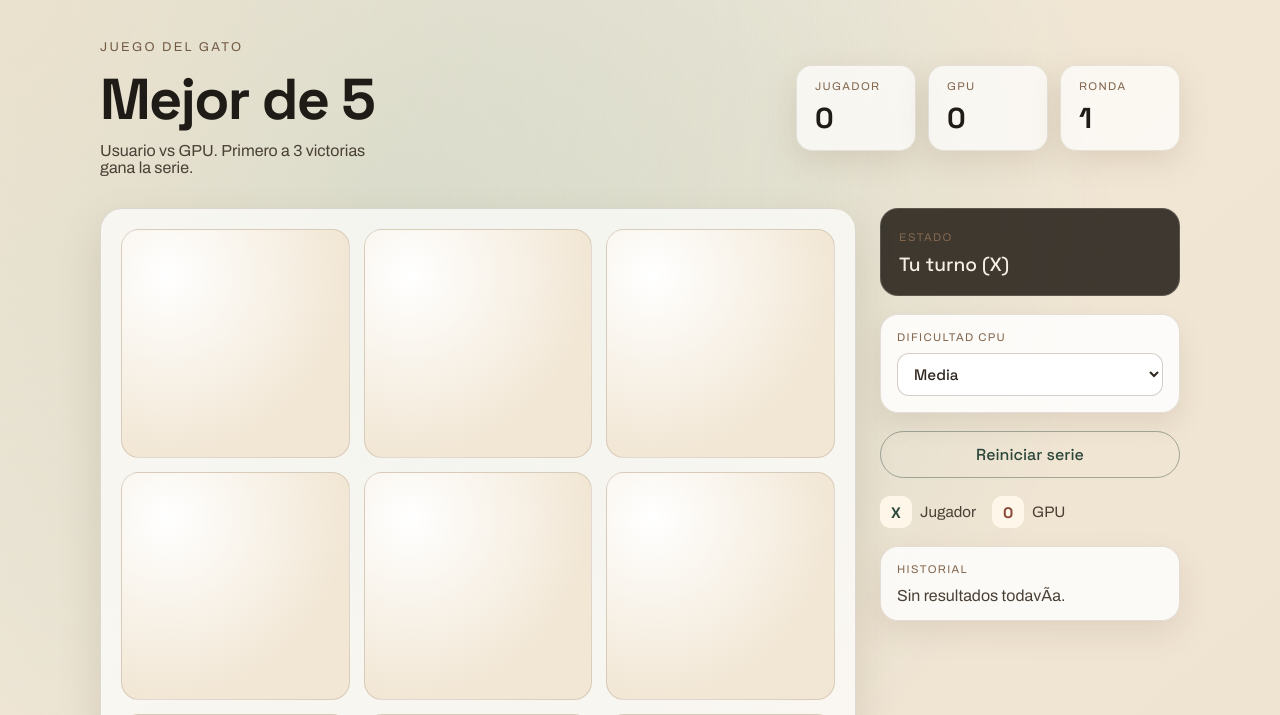
Test: App › places X and then O after a player move
The image size is (1280, 715).
Click the button named "celda".
click(235, 343)  # box [121,229,350,458]
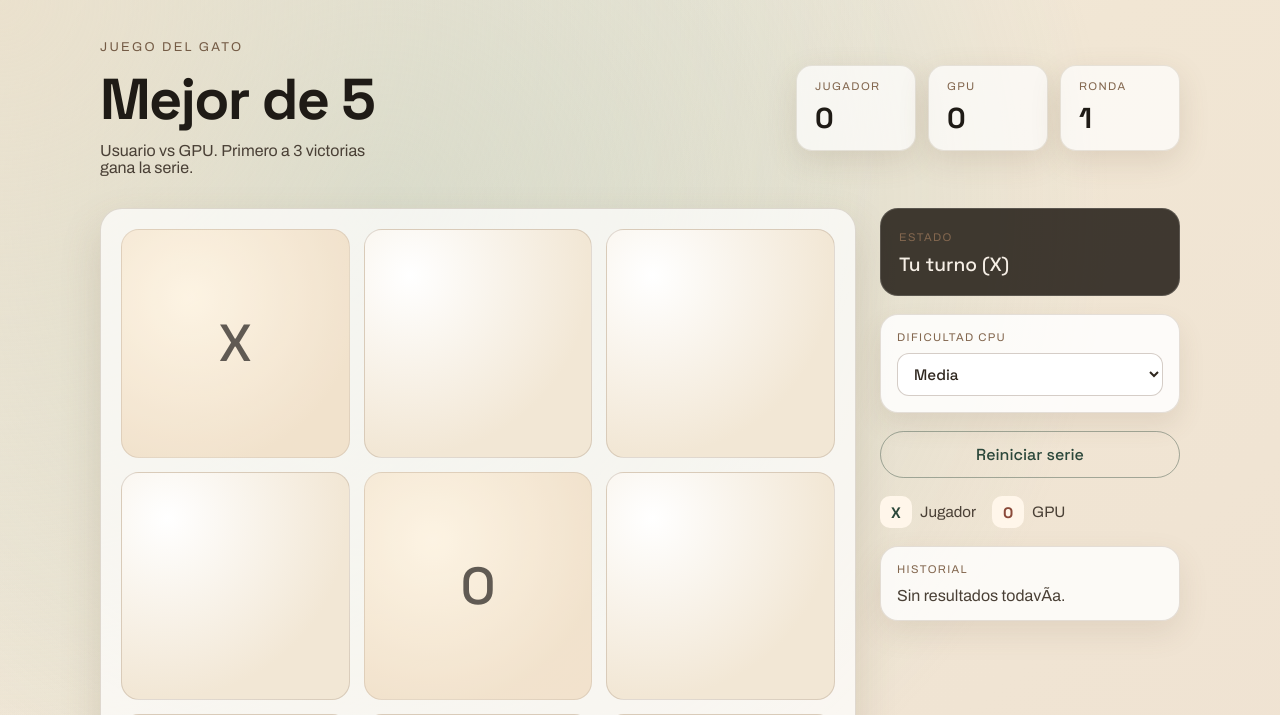
Check: the button named "celda" reads "X", box [121,229,350,458]
